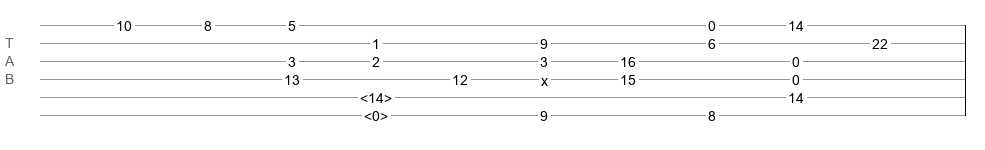0: (708, 18, 716, 28), (792, 72, 800, 82), (792, 54, 800, 64)
1: (372, 36, 380, 46)
10: (116, 18, 132, 28)
12: (452, 72, 468, 82)
13: (284, 72, 300, 82)
14: (788, 90, 804, 100), (788, 18, 804, 28)
15: (620, 72, 636, 82)
16: (620, 54, 636, 64)
2: (372, 54, 380, 64)
22: (872, 36, 888, 46)
3: (288, 54, 296, 64), (540, 54, 548, 64)
5: (288, 18, 296, 28)
6: (708, 36, 716, 46)
8: (204, 18, 212, 28), (708, 108, 716, 118)
9: (540, 36, 548, 46), (540, 108, 548, 118)
harmonic: (360, 90, 392, 100), (364, 108, 388, 118)
x: (541, 73, 548, 81)
